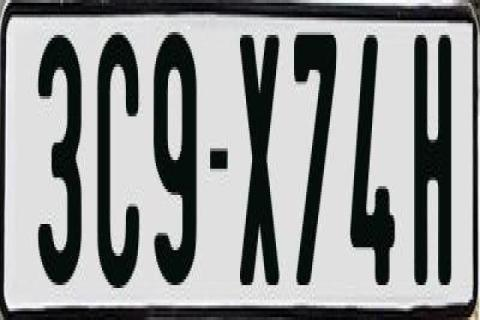0: (38, 26, 84, 288), (348, 29, 391, 285), (152, 32, 194, 285), (292, 35, 334, 288)
C: (96, 23, 144, 285)
H: (410, 26, 454, 276)
X: (236, 35, 284, 294)
